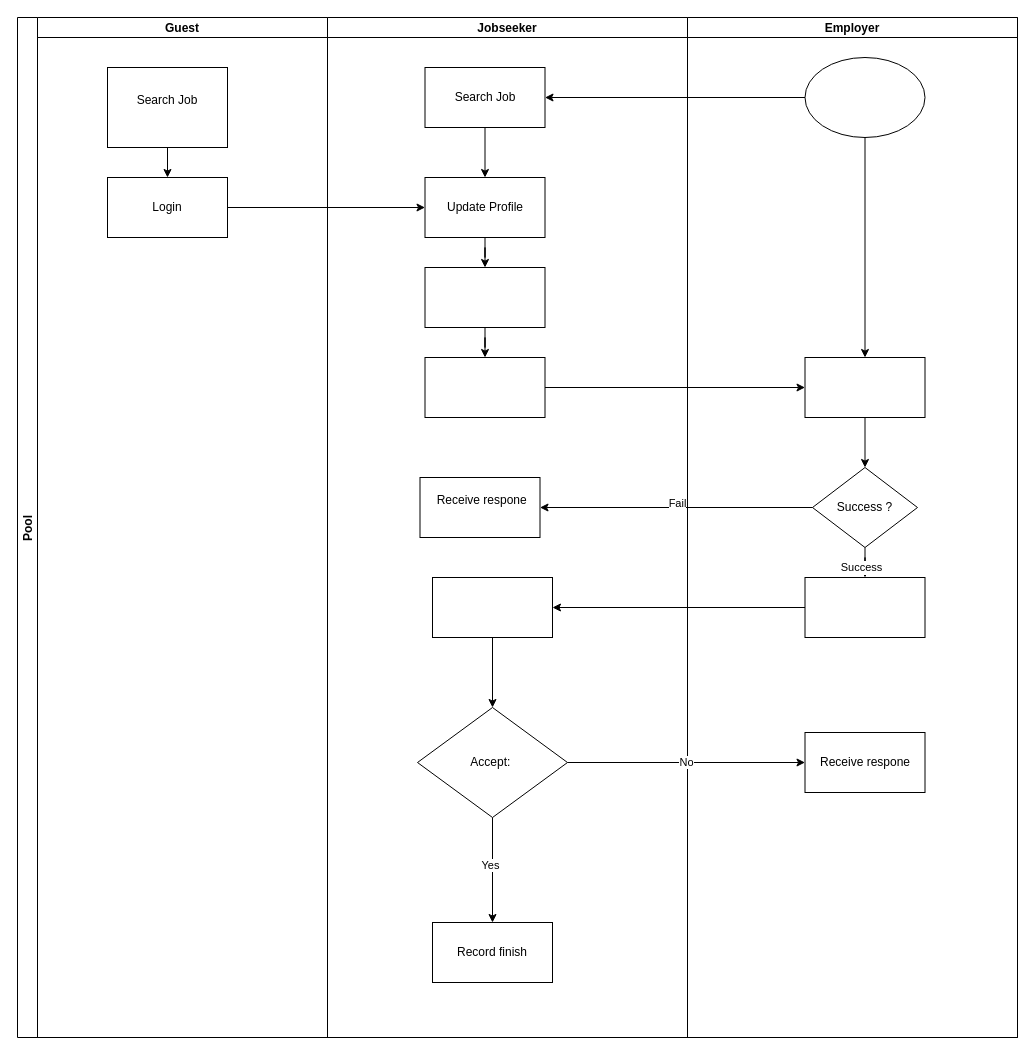
Image size: 1035x1055. Some labels were removed from this diagram. Here are the shapes that lost their labels. From the top down, the centre of each, then its label:
At point 864,97: "Post Job Openintg".
At point 484,297: "Upload CV".
At point 484,387: "Apply for Job".
At point 864,387: "Review Application".
At point 492,607: "Receive schedule".
At point 864,607: "Schedule Interview".
